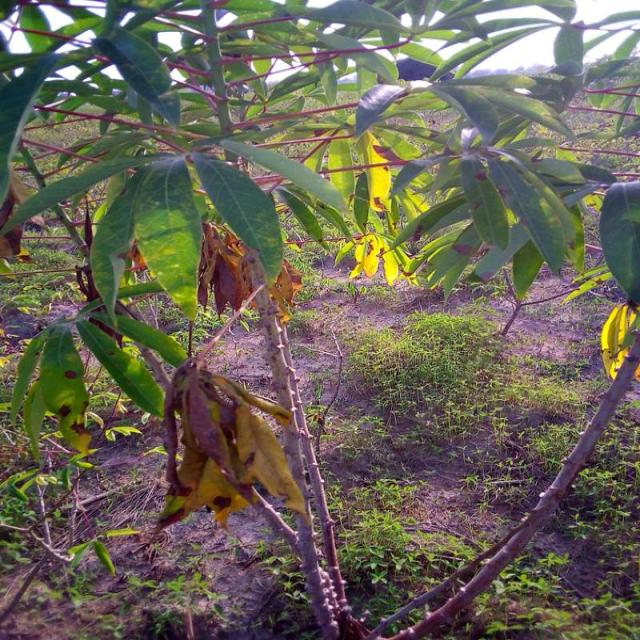cassava leaf: (158, 355, 306, 532), (190, 150, 285, 289), (132, 154, 204, 322), (600, 178, 640, 304)
